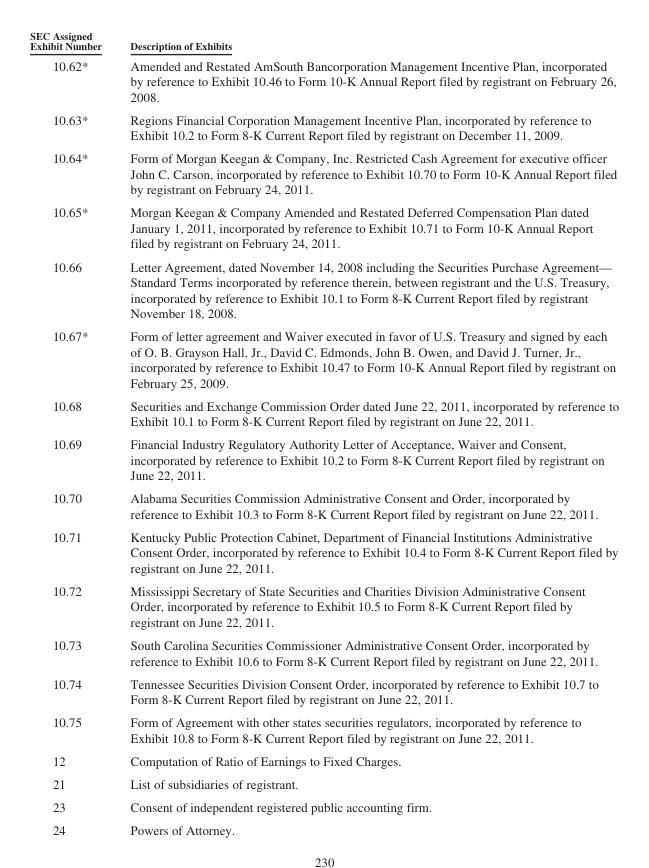table: (29, 29, 618, 836)
table column: (115, 29, 618, 836), (29, 29, 115, 836)
table column header: (29, 29, 618, 54)
table row: (29, 254, 618, 324), (29, 324, 618, 393), (29, 524, 618, 579), (29, 146, 618, 200), (29, 200, 618, 254), (29, 432, 618, 486), (29, 579, 618, 633), (29, 54, 618, 107), (29, 107, 618, 146), (29, 393, 618, 432), (29, 671, 618, 710), (29, 486, 618, 524), (29, 633, 618, 671), (29, 710, 618, 748), (29, 29, 618, 54), (29, 748, 618, 771), (29, 771, 618, 794), (29, 794, 618, 817), (29, 817, 618, 836)
